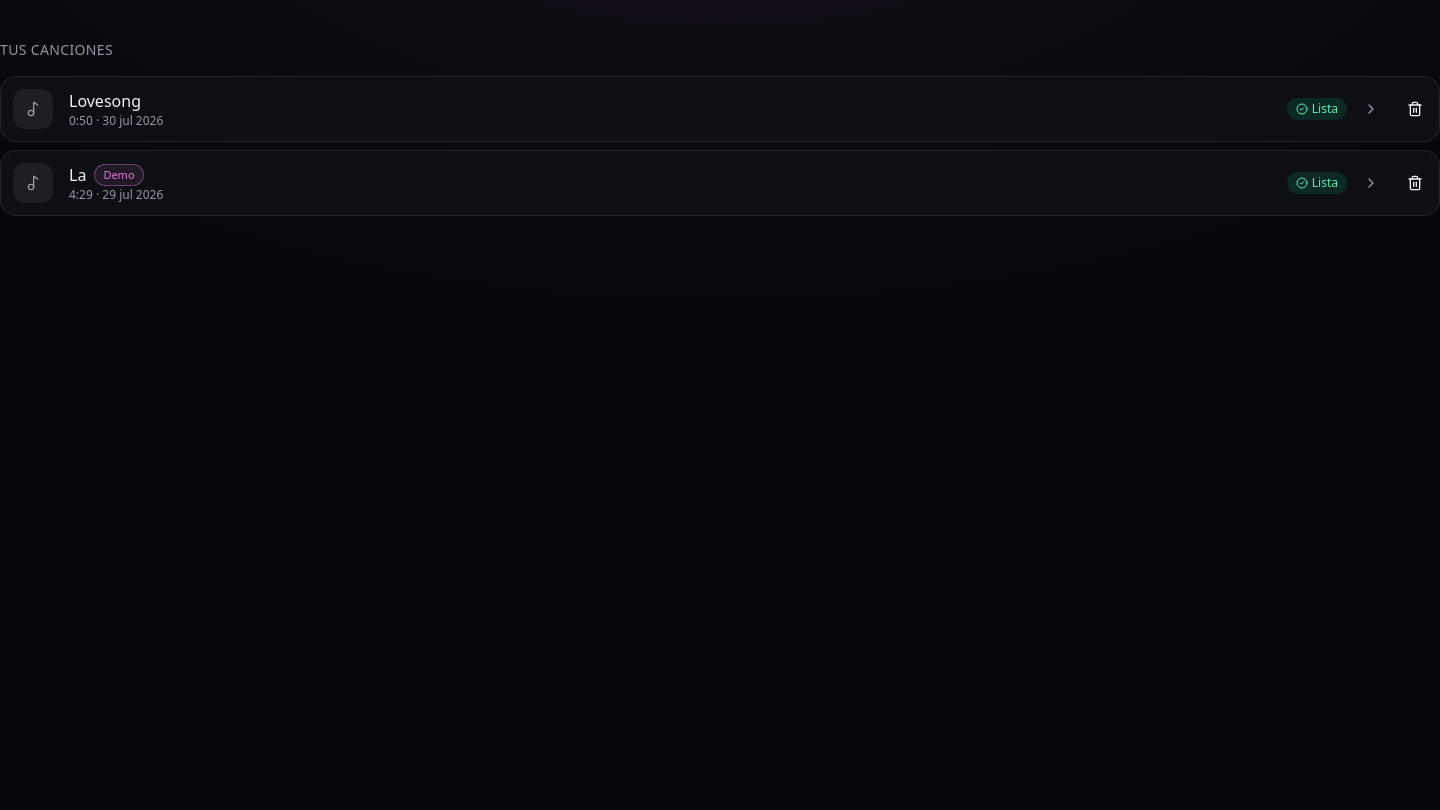
Test: TrackLibrary › shows the API's reason when a delete is refused
Click the button named "Eliminar" in the row of "Lovesong" at (1415,109), box [1399,93,1431,125]
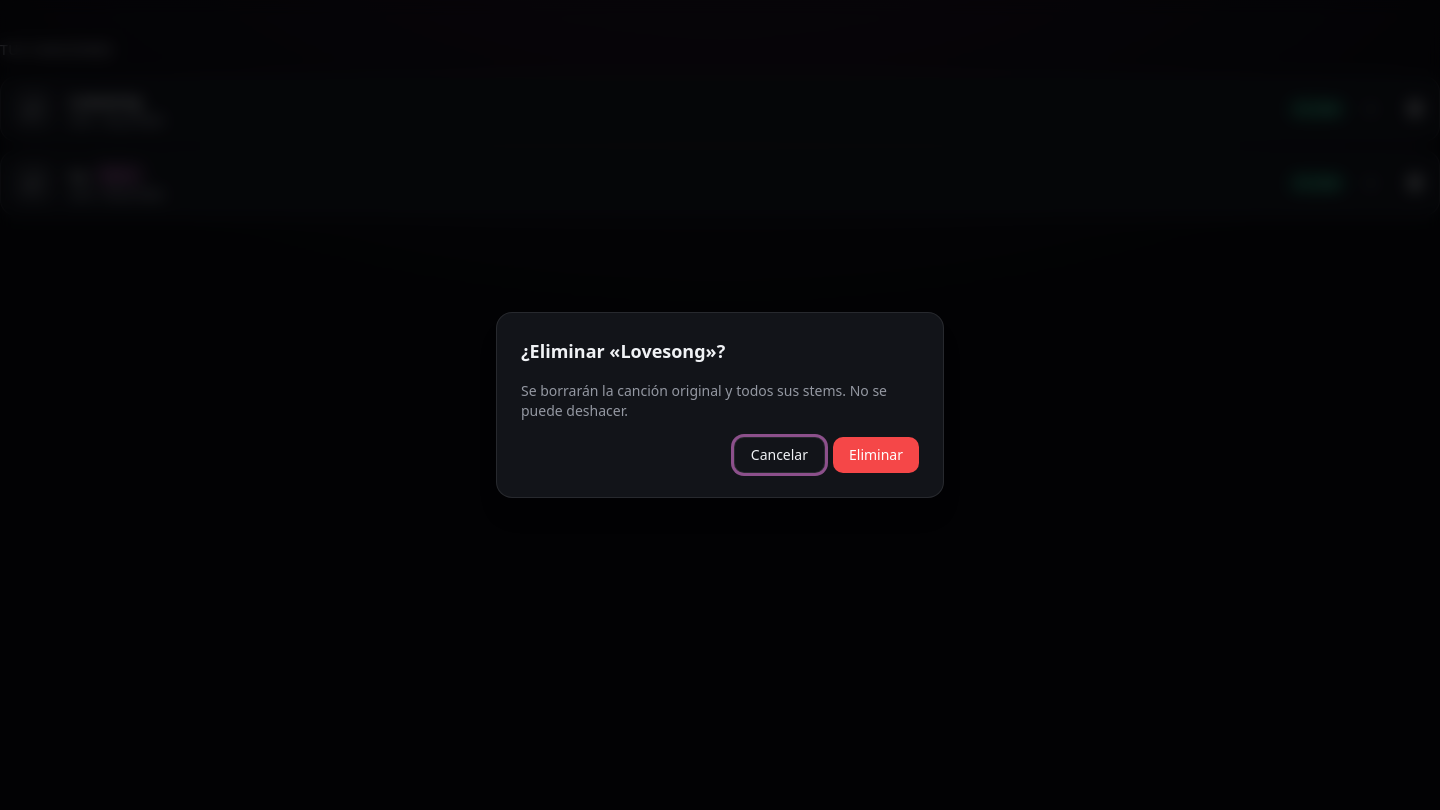
Click the button "Eliminar" at (876,455), box [833,437,919,473]
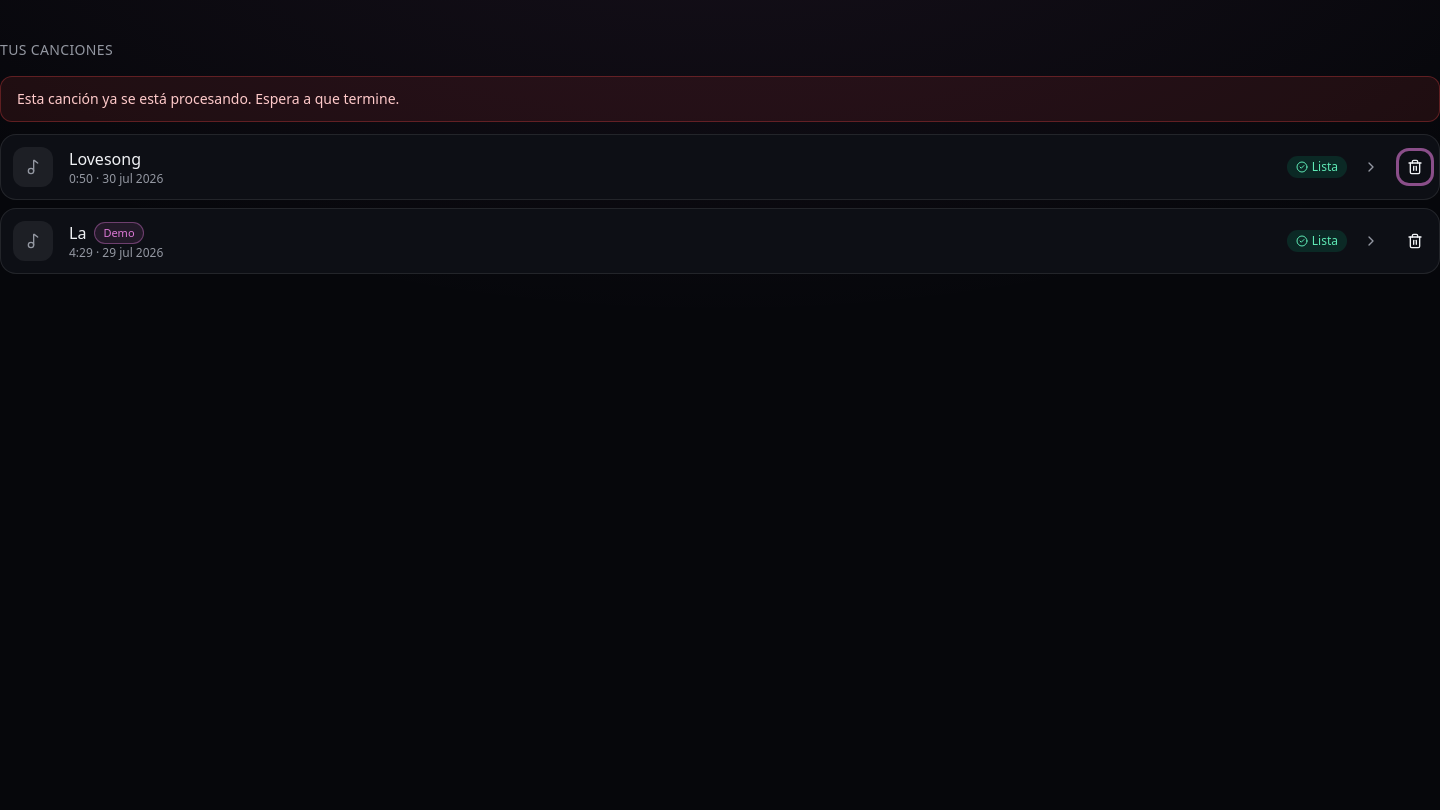
Now the message shows "Esta canción ya se está procesando.", box [17,89,399,108]
